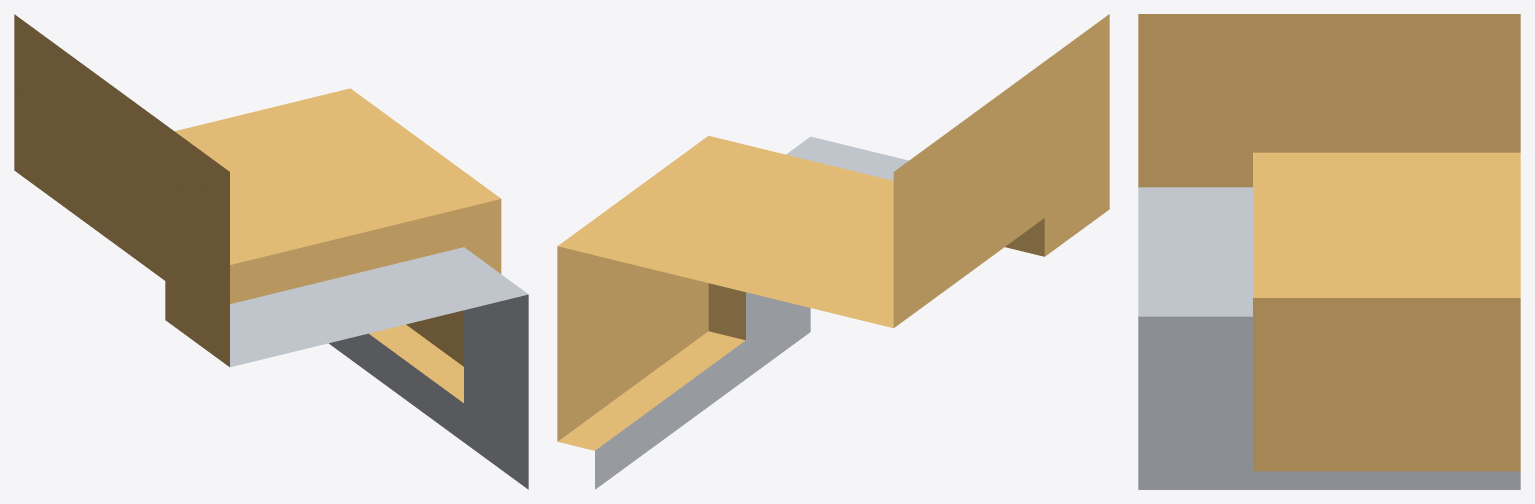
3 views of the same model, side by side, from view 1: azimuth 30°, elevation 25°; view 2: azimuth 150°, elevation 25°; view 3: azimuth 270°, elevation 25° (orthographic). The views are drawn at different scales.
Bounding box in the file's own units: 0.9 × 1 × 1.
